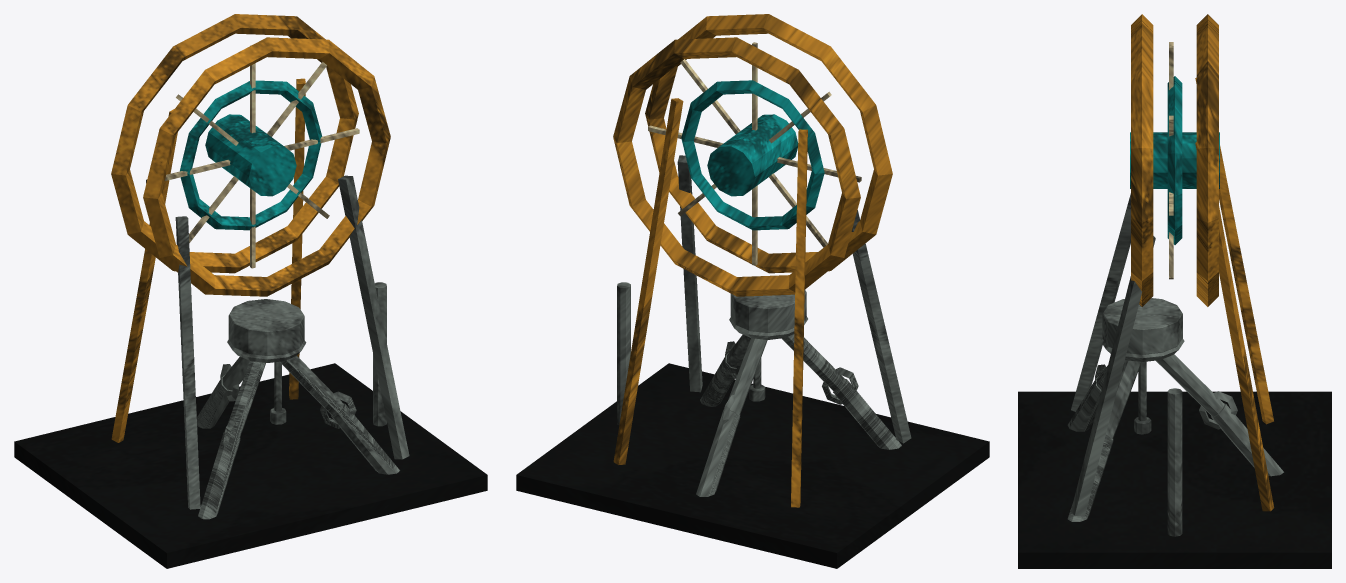
Rendered from east-rim-debris-catcher.glb.
The picture shows the model from 3 angles, left to right: view 1: azimuth 30°, elevation 25°; view 2: azimuth 150°, elevation 25°; view 3: azimuth 270°, elevation 25°; orthographic projection. The views are drawn at different scales.
Visible parts, largest first — view 1: east-rim-debris-catcher; view 2: east-rim-debris-catcher; view 3: east-rim-debris-catcher.
Boxes of the visible parts, left/top/right/bottom form: east-rim-debris-catcher: left=14, top=14, right=487, bottom=568; east-rim-debris-catcher: left=516, top=14, right=989, bottom=568; east-rim-debris-catcher: left=1018, top=14, right=1331, bottom=568.
Bounding box in the file's own units: 5.1 × 6.87 × 4.2.
Materials: 1 (1 with a texture image).
